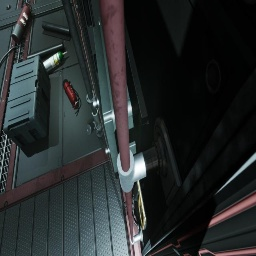0: (43, 51, 68, 72)
EmergencyPhone ,: (132, 179, 150, 230)
FireExtinguisher ]: (62, 79, 79, 110)
NitrogenTank ,: (11, 2, 32, 44)
